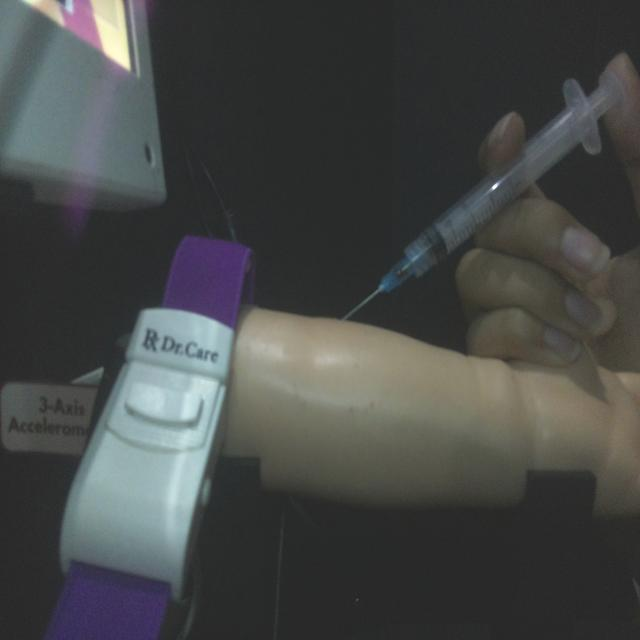30 degrees: (343, 66, 626, 322)
